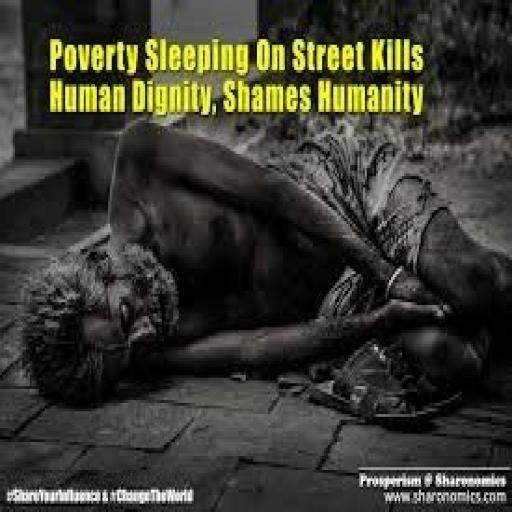sleeping: (19, 112, 508, 420)
